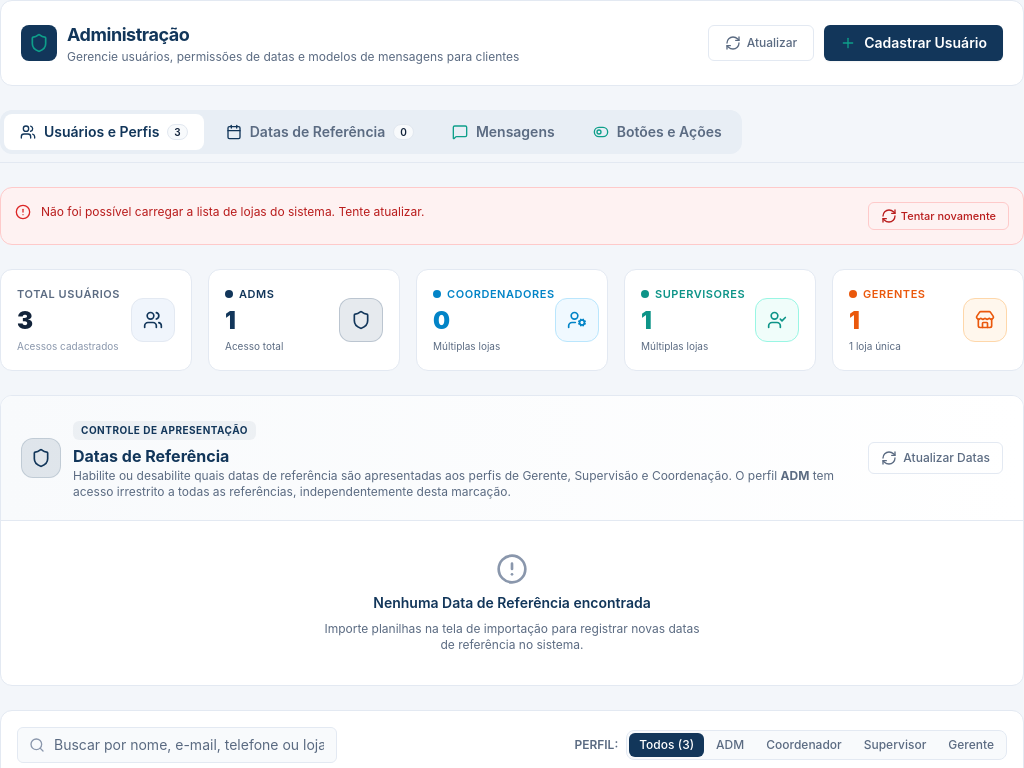
Scenario: Admin - exibição de usuários e lojas reais (regressão tela vazia) › aviso de falha de lojas também aparece no modal de vínculo de usuário
Check: the text "Não foi possível carregar a lista de lojas" is shown, box [41,204,424,219]
Step 1. Click the button "Cadastrar Usuário" → (914, 43), box [824,25,1003,61]
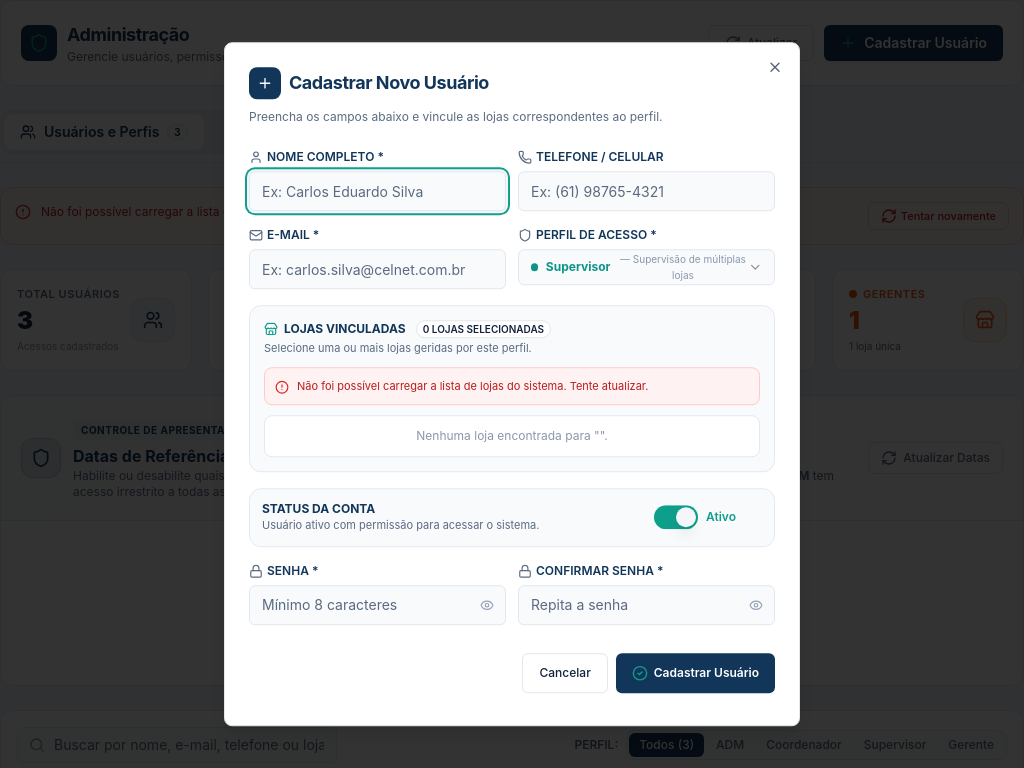
Check: the message "Não foi possível carregar a lista de lojas do sistema. Tente atualizar." is shown, box [264,367,760,405]
